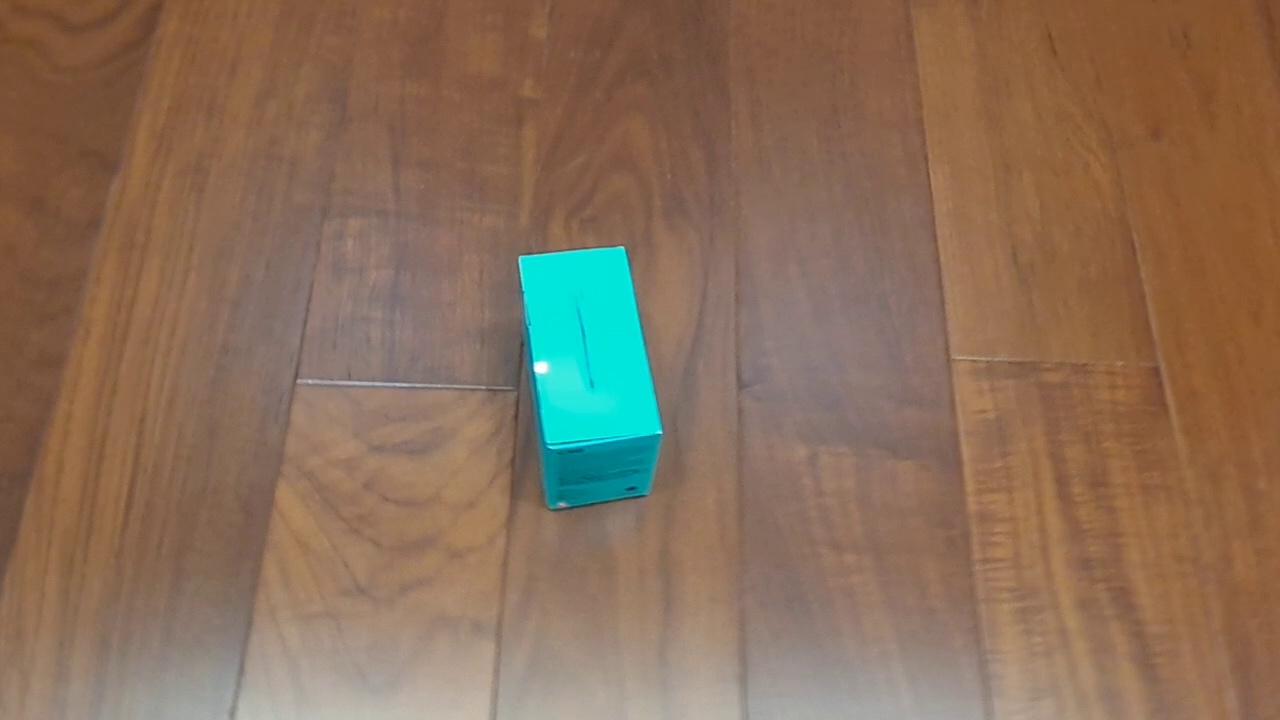webcam: (516, 245, 664, 512)
